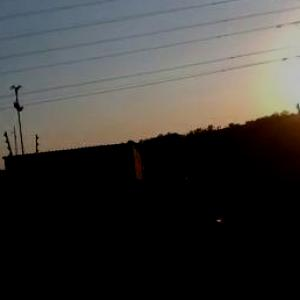follow: (139, 153, 235, 299)
